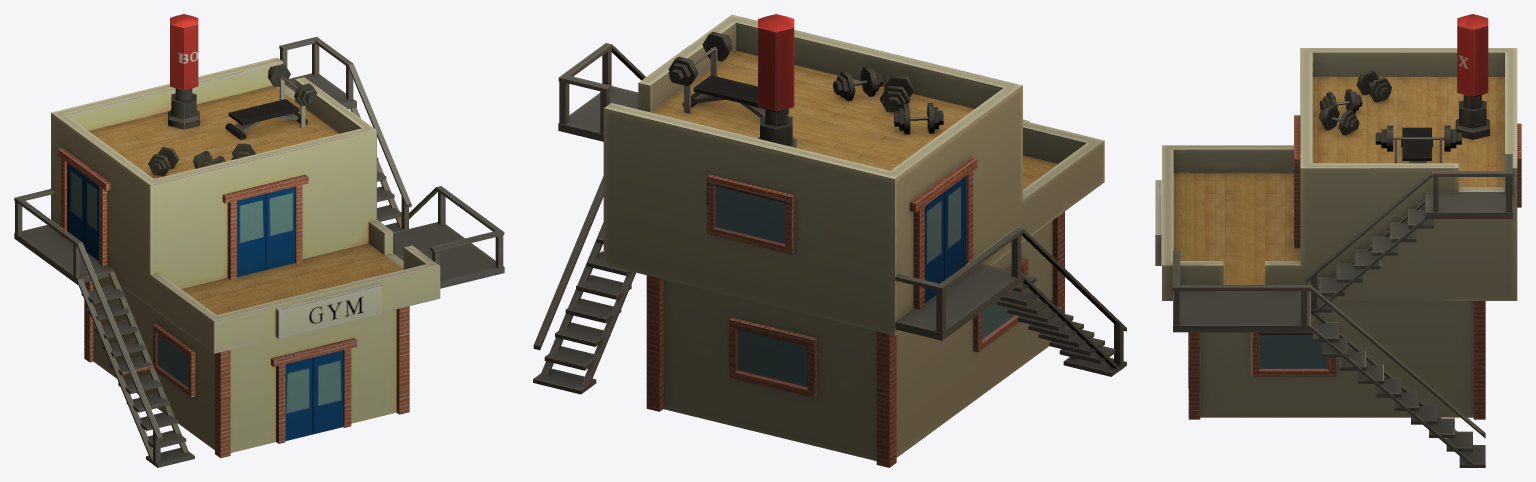
The model's file is Gym.glb.
3 views of the same model, side by side, from view 1: azimuth 30°, elevation 25°; view 2: azimuth 150°, elevation 25°; view 3: azimuth 270°, elevation 25° (orthographic). The views are drawn at different scales.
Visible parts, largest first — view 1: Object004; view 2: Object004; view 3: Object004.
Boxes of the visible parts, x1,y1,x2,y2 form: Object004: [14, 14, 504, 467]; Object004: [533, 14, 1126, 467]; Object004: [1155, 14, 1521, 467].
Bounding box in the file's own units: 6.41 × 5.95 × 5.6.
Materials: 1 (1 with a texture image).
